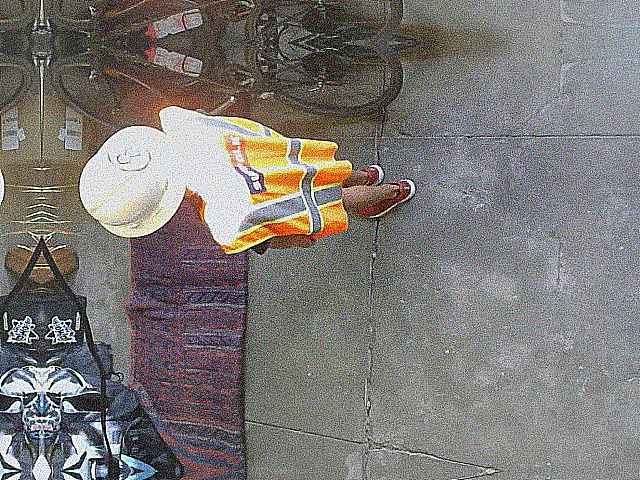eight: (108, 140, 151, 171)
